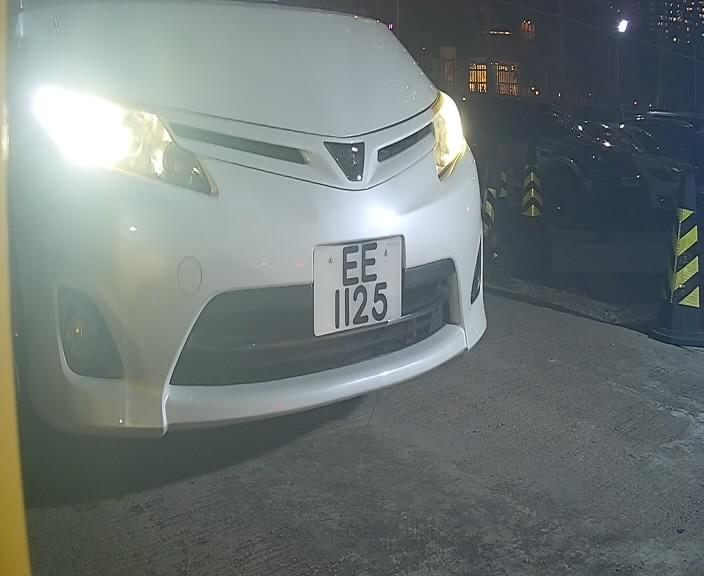License Plate: (309, 224, 415, 343)
